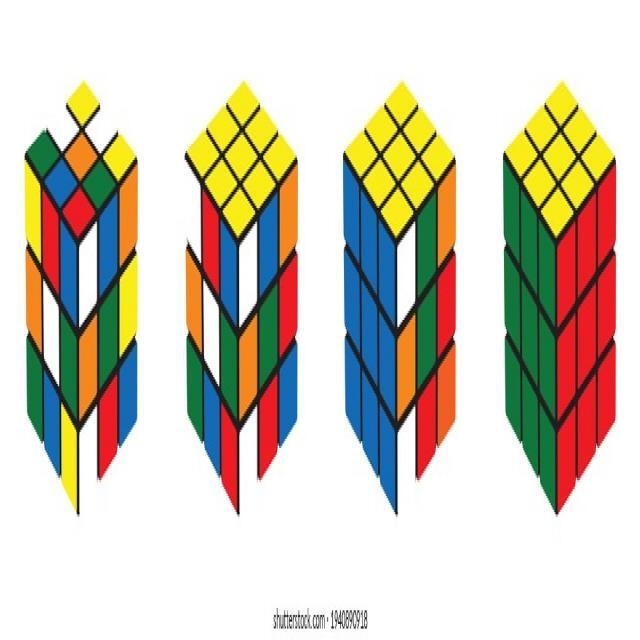Rub: (496, 75, 624, 518), (174, 79, 300, 515), (340, 74, 460, 518), (17, 78, 138, 518)
